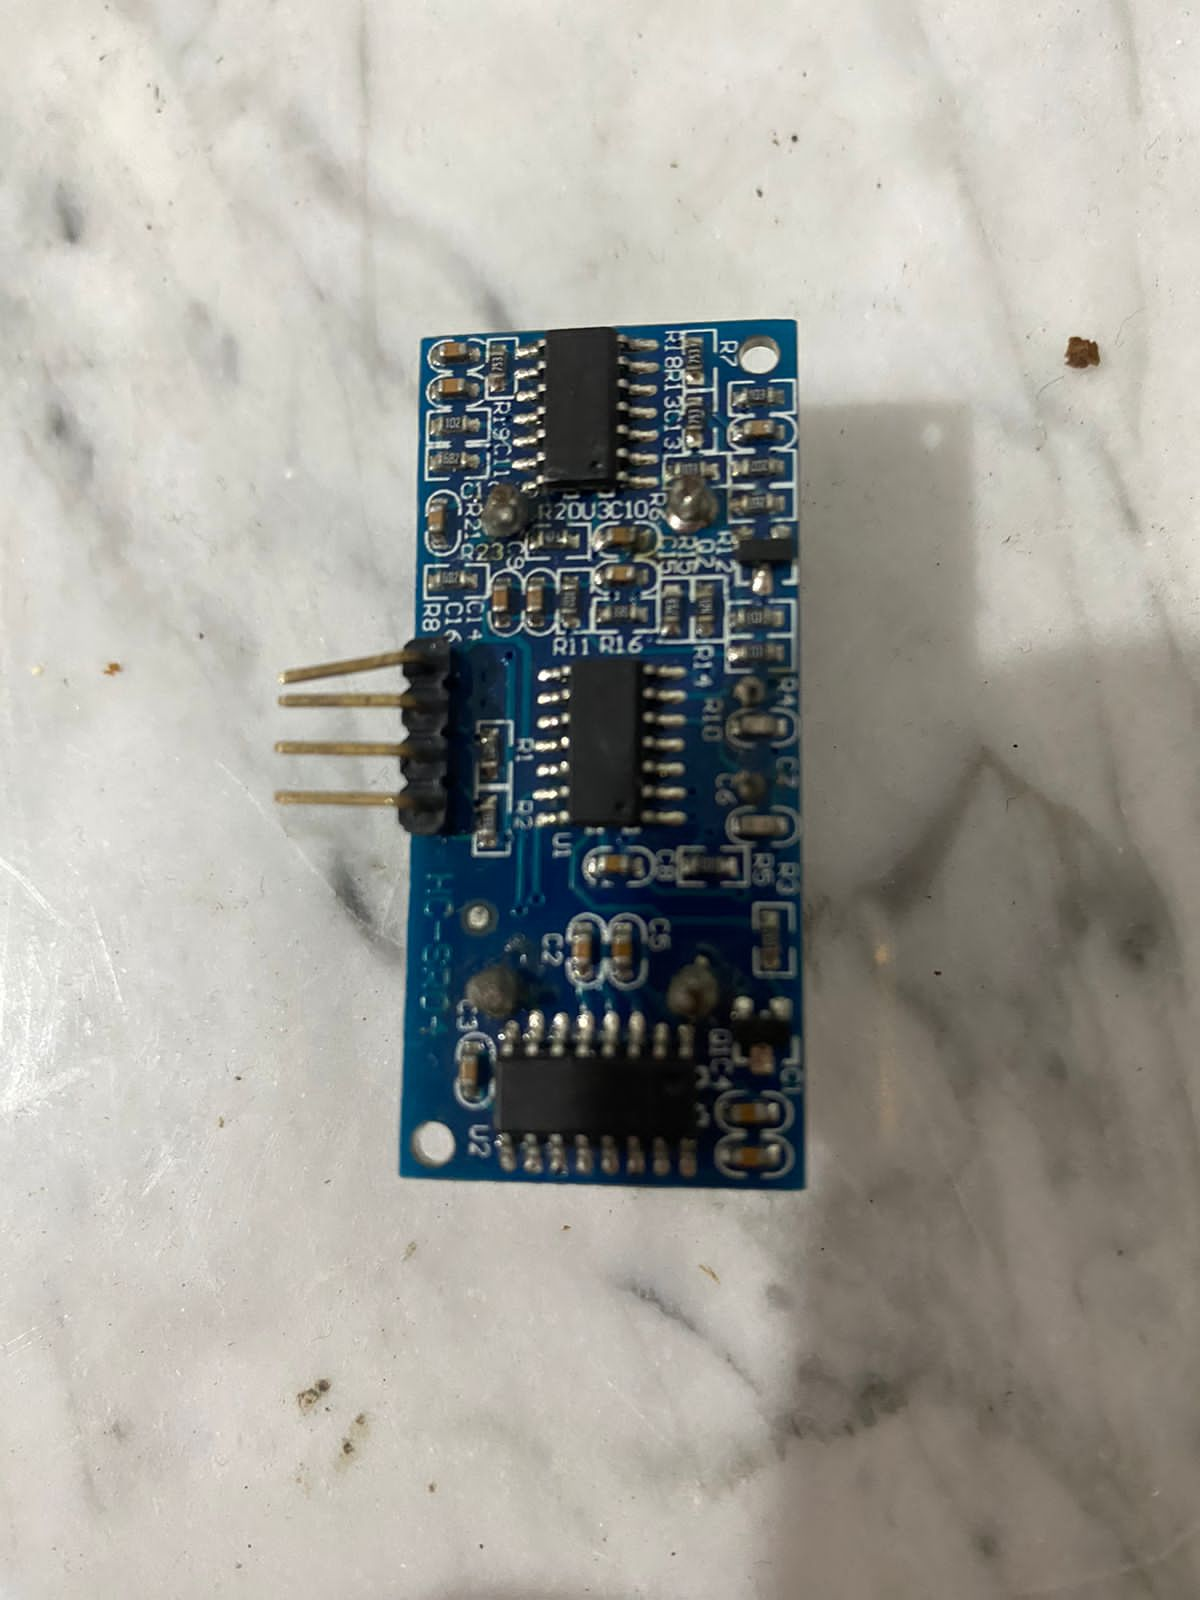capteur-ultrasonique: (271, 301, 819, 1211)
